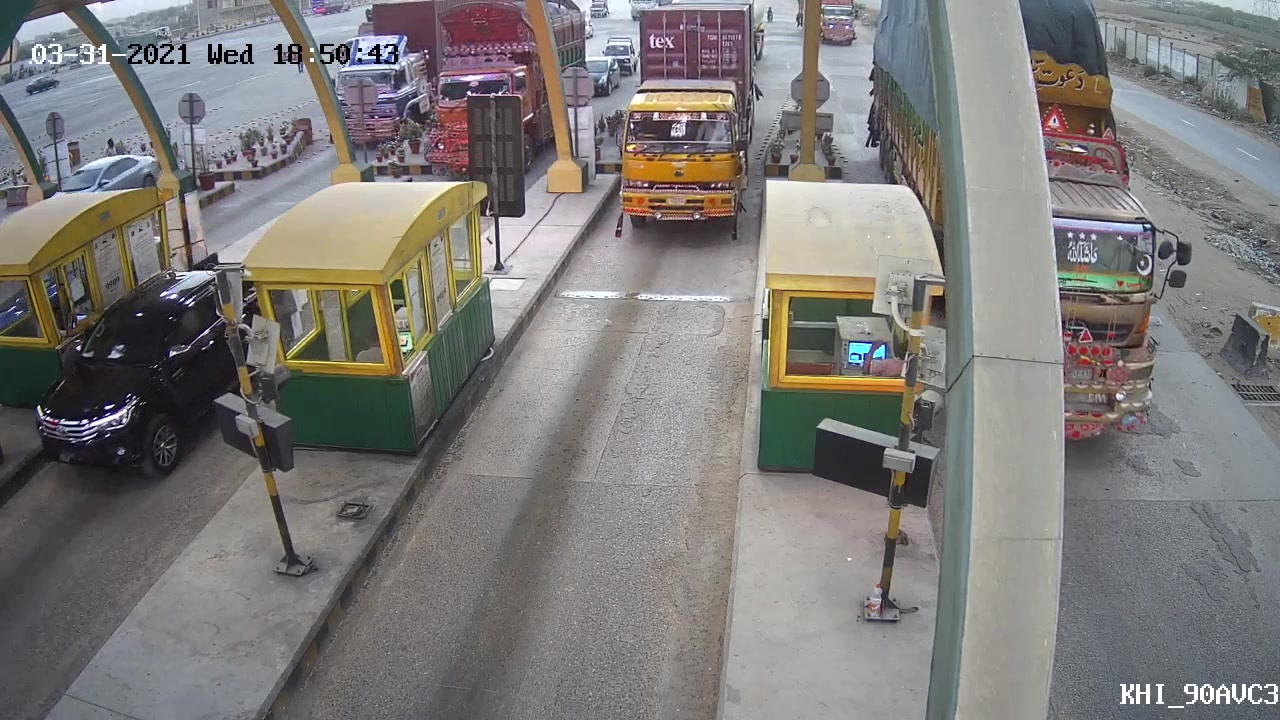F6: (604, 1, 760, 249)
